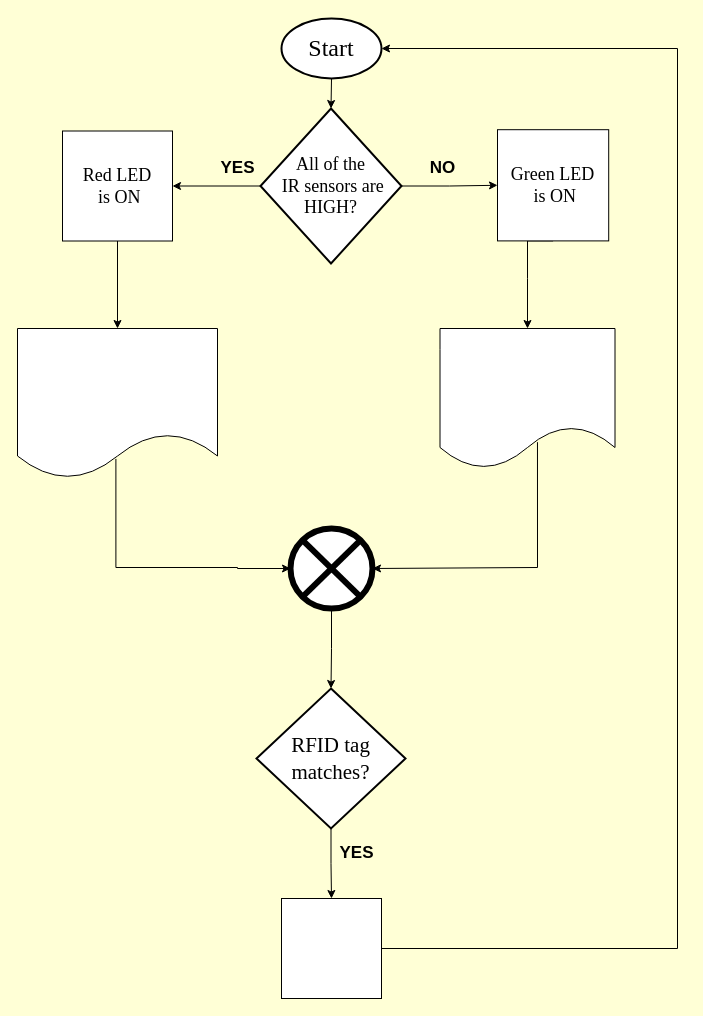
The diagram is 703 pixels wide and 1016 high, and some of its shapes have lost their labels. Each missing label, with the box of its shape:
Parking available; To park the car or take out the parked car, Scan RFID tag: (439, 328, 615, 468)
Parking NOT available; To take out the parked car, Scan RFID tag: (16, 328, 218, 478)
slot is aligned: (280, 898, 382, 998)
